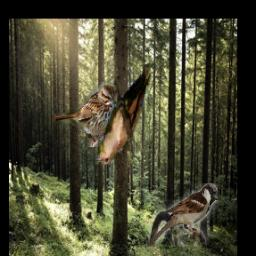Cuckoo: (96, 62, 154, 166)
Sparrow: (148, 183, 218, 247), (53, 82, 118, 147)
